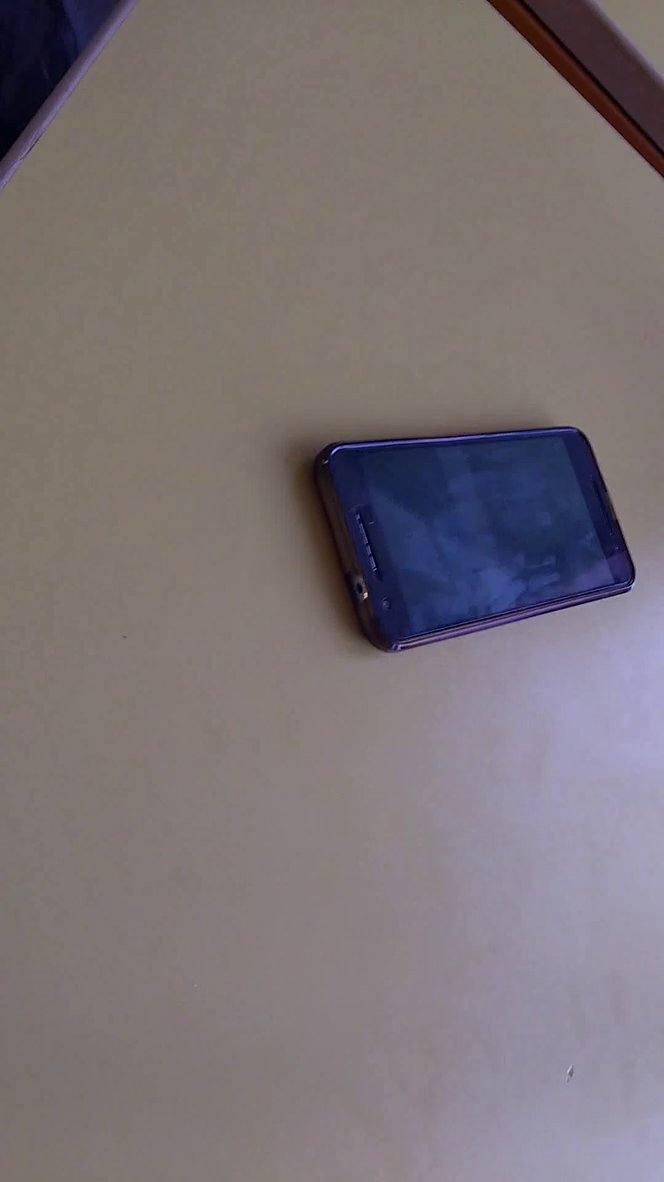phone: (297, 407, 648, 670)
